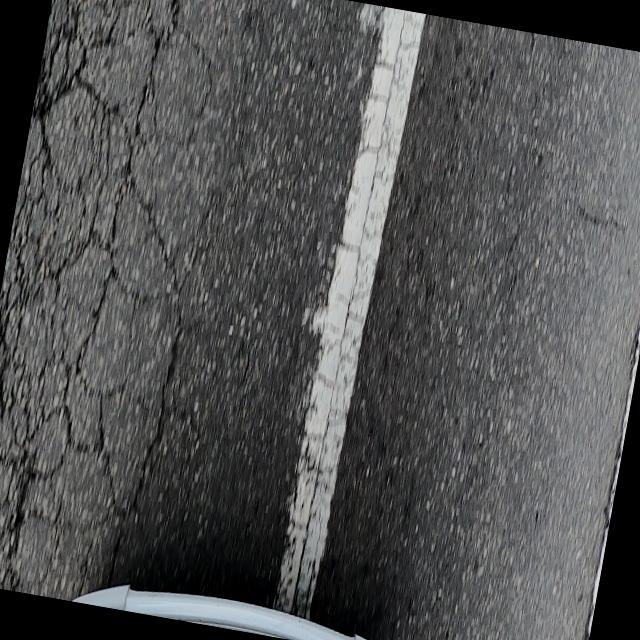Retak-Buaya: (0, 0, 181, 600)
